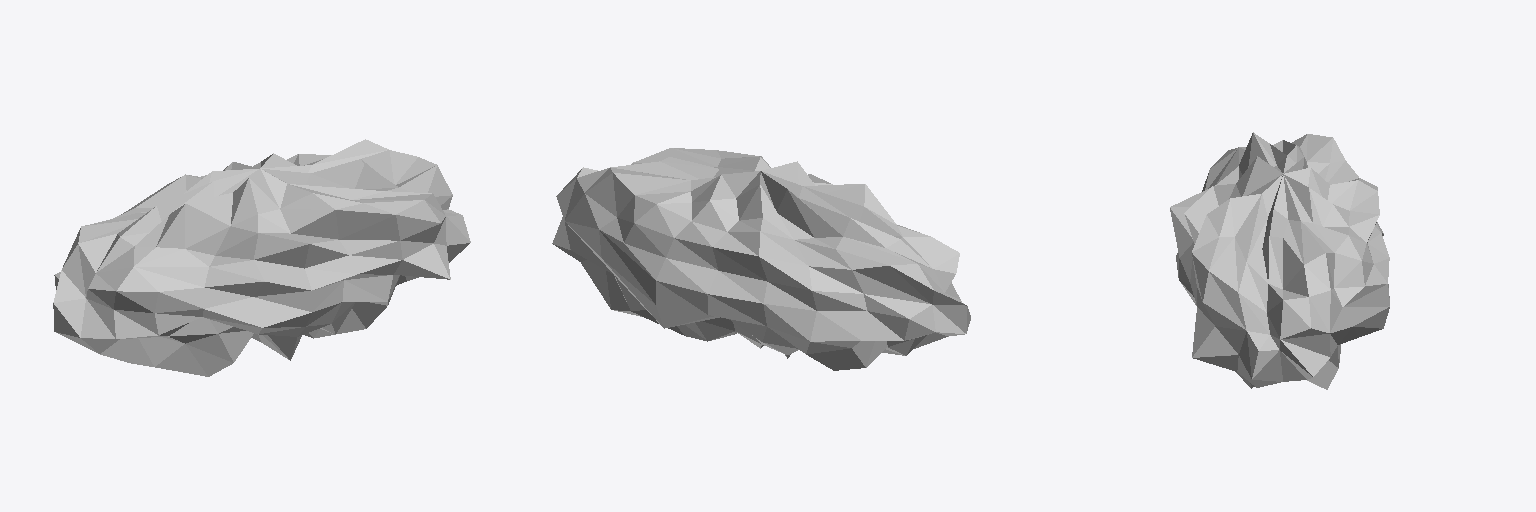
Rendered from cloud_light.obj.
The picture shows the model from 3 angles: view 1: azimuth 30°, elevation 25°; view 2: azimuth 150°, elevation 25°; view 3: azimuth 270°, elevation 25°; orthographic projection.
Visible parts, largest first — view 1: Sphere.1; view 2: Sphere.1; view 3: Sphere.1.
Boxes of the visible parts, x1,y1,x2,y2 form: Sphere.1: [53, 139, 470, 376]; Sphere.1: [552, 148, 970, 370]; Sphere.1: [1170, 132, 1389, 389].
Size of the model in its own units: 1355 by 586 by 644.